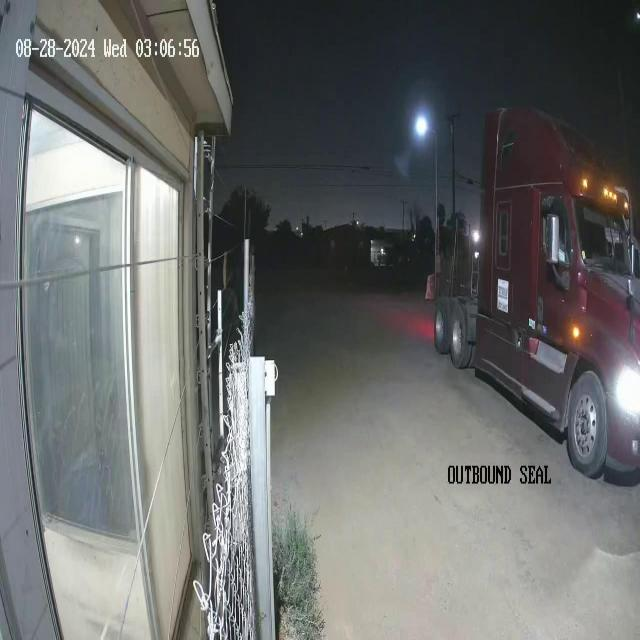TRUCK_IN: (434, 103, 639, 481)
